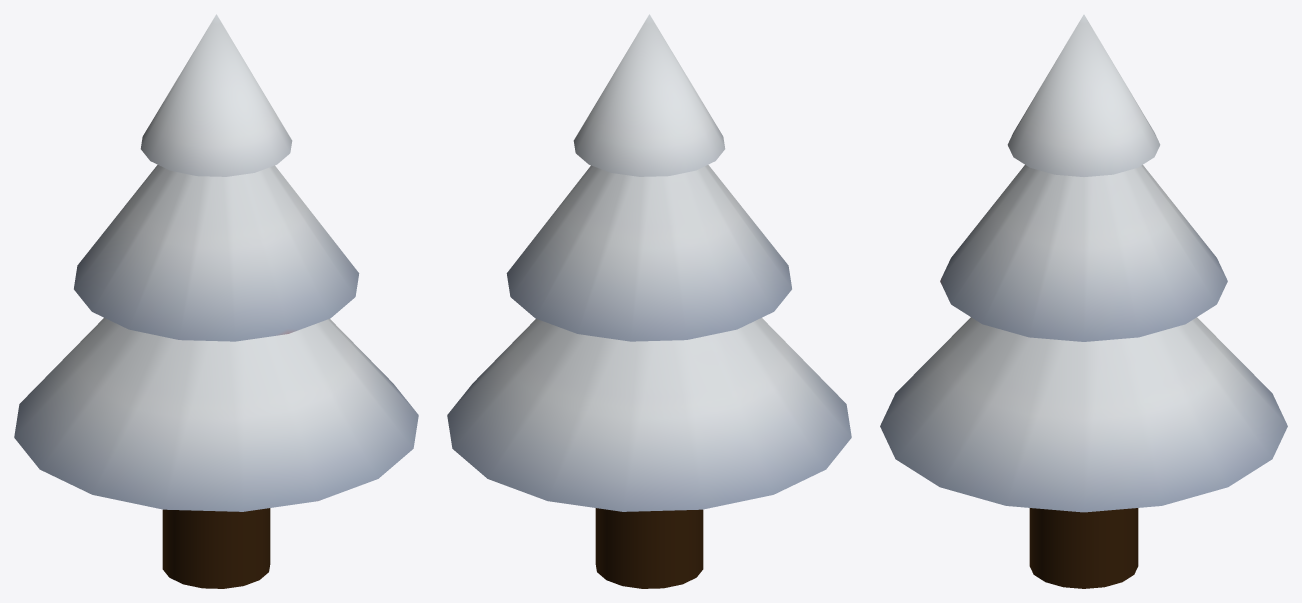
The model's file is SnowTrees.fbx.
The picture shows the model from 3 angles, left to right: view 1: azimuth 30°, elevation 25°; view 2: azimuth 150°, elevation 25°; view 3: azimuth 270°, elevation 25°; orthographic projection.
Visible parts, largest first — view 1: Tree01; view 2: Tree01; view 3: Tree01.
Part boxes in pixels (x1,y1,x2,y2): Tree01: [14, 14, 418, 588]; Tree01: [447, 14, 851, 588]; Tree01: [880, 14, 1287, 588].
Bounding box in the file's own units: 0.6 × 0.8957 × 0.6.
